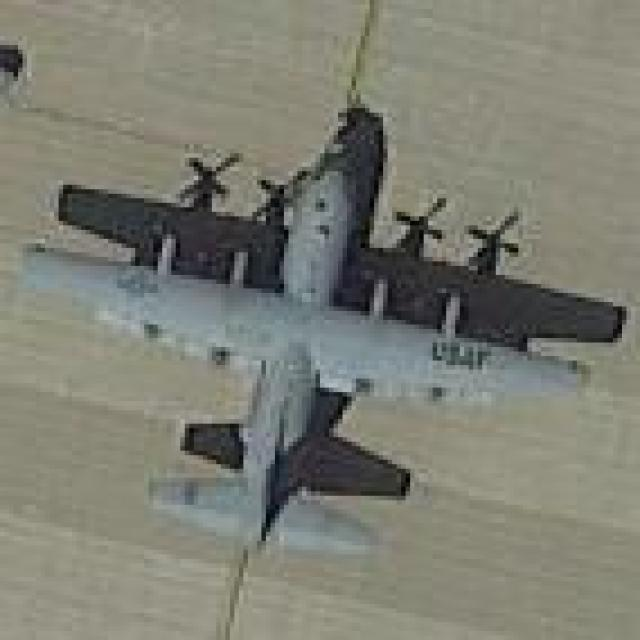C-130_TopDown: (18, 96, 632, 560)
